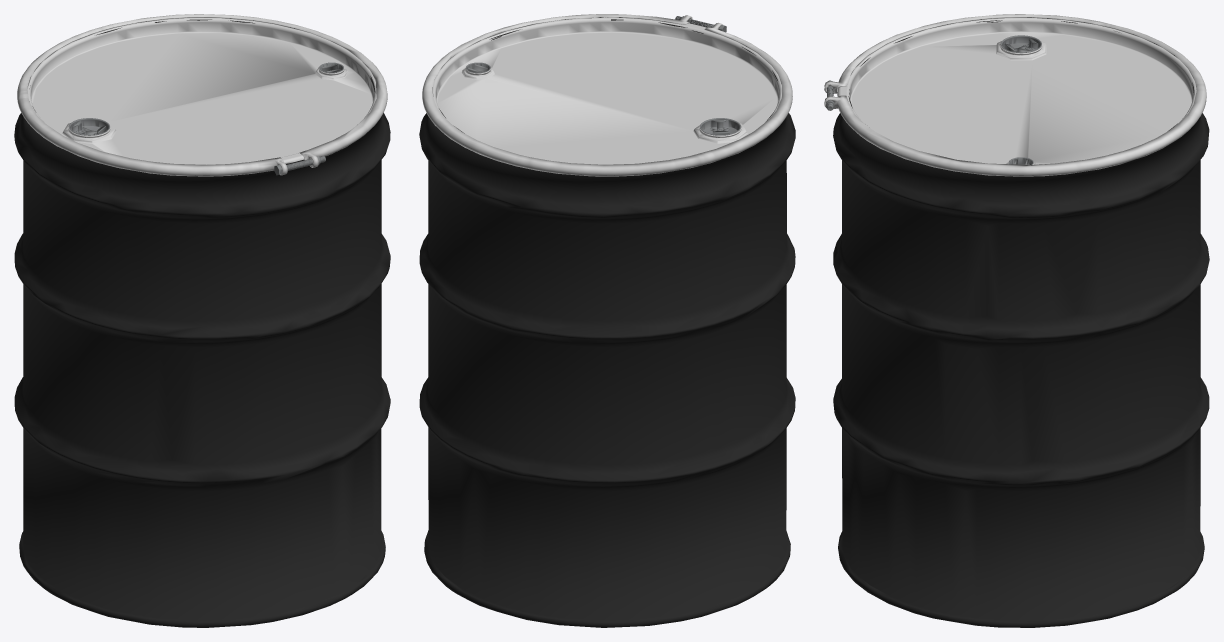
Rendered from drum.glb.
3 views of the same model, side by side, from view 1: azimuth 30°, elevation 25°; view 2: azimuth 150°, elevation 25°; view 3: azimuth 270°, elevation 25° (orthographic).
Parts seen in each view (by area): view 1: sm_drum_a01_mesh_00, sm_lid_a01_mesh_00; view 2: sm_drum_a01_mesh_00, sm_lid_a01_mesh_00; view 3: sm_drum_a01_mesh_00, sm_lid_a01_mesh_00.
Boxes of the visible parts, x1,y1,x2,y2 form: sm_drum_a01_mesh_00: [14, 19, 390, 627]; sm_lid_a01_mesh_00: [17, 14, 387, 176]; sm_drum_a01_mesh_00: [419, 19, 795, 627]; sm_lid_a01_mesh_00: [422, 14, 792, 176]; sm_drum_a01_mesh_00: [833, 20, 1209, 627]; sm_lid_a01_mesh_00: [824, 14, 1206, 176].
Size of the model in its own units: 0.6419 by 0.8682 by 0.6567.
4 materials, 2 textured.
